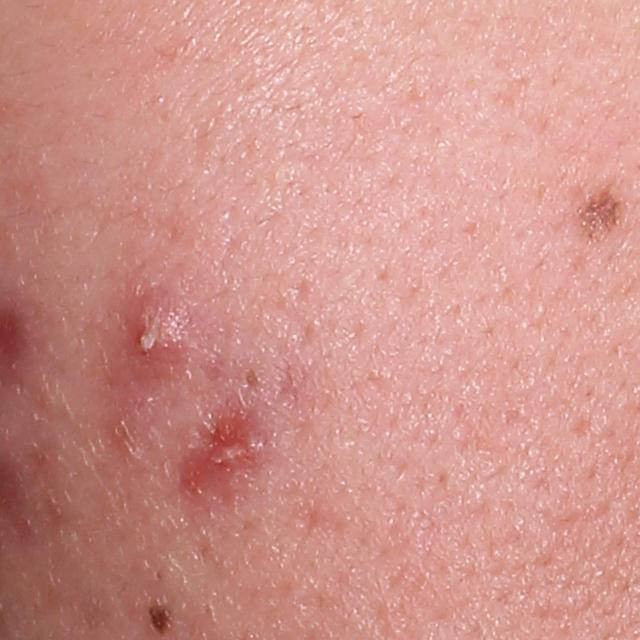nevus: (575, 183, 627, 249), (142, 598, 175, 637)
papule: (109, 284, 201, 395), (176, 404, 266, 513)
